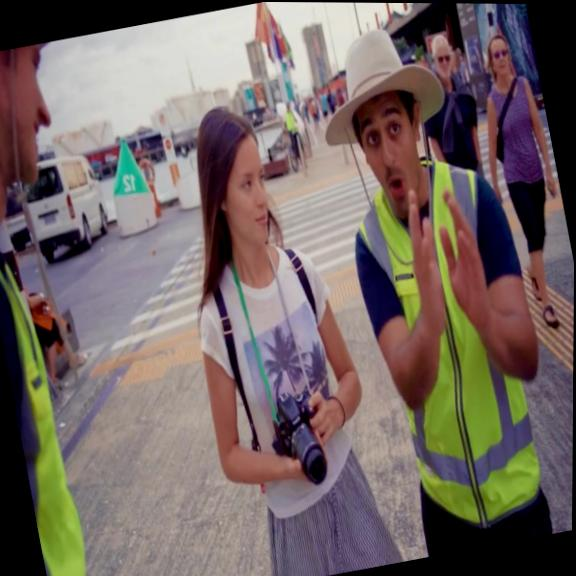safety_vest: (343, 144, 552, 543), (0, 223, 112, 576)
